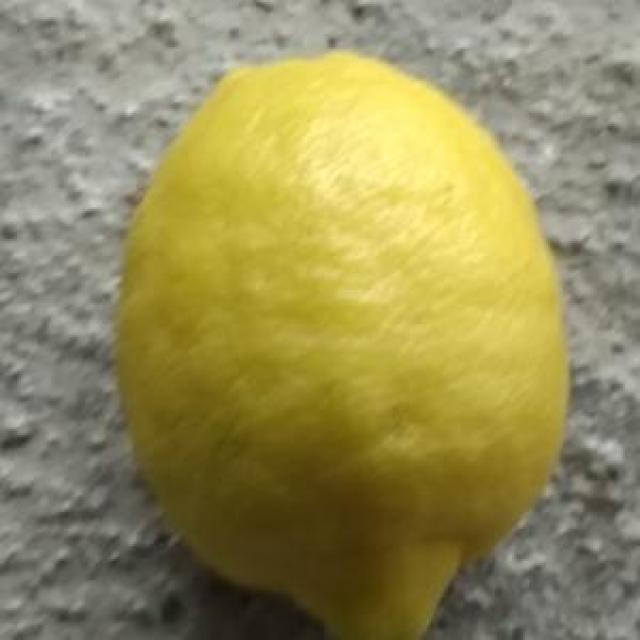lemon: (111, 48, 572, 640)
